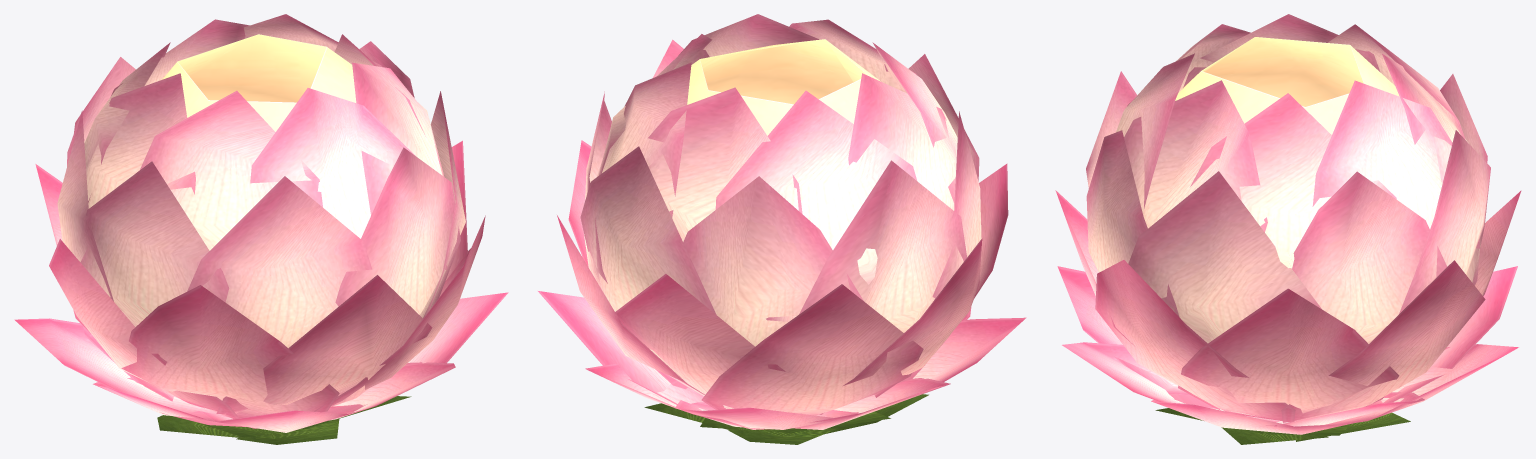
The model's file is lotus.glb.
3 views of the same model, side by side, from view 1: azimuth 30°, elevation 25°; view 2: azimuth 150°, elevation 25°; view 3: azimuth 270°, elevation 25° (orthographic).
Parts seen in each view (by area): view 1: Petals_Upper, Petals_Lower, PaperDome, Sepals; view 2: Petals_Upper, Petals_Lower, PaperDome, Sepals; view 3: Petals_Upper, Petals_Lower, PaperDome, Sepals.
Part boxes in pixels (x1,y1,x2,y2): Petals_Upper: (57, 14, 465, 348); Petals_Lower: (14, 140, 508, 432); PaperDome: (162, 34, 356, 131); Sepals: (157, 396, 411, 444); Petals_Upper: (580, 14, 981, 380); Petals_Lower: (538, 140, 1026, 429); PaperDome: (687, 39, 880, 135); Sepals: (644, 394, 928, 444); Petals_Upper: (1086, 14, 1490, 343); Petals_Lower: (1055, 190, 1521, 434); PaperDome: (1175, 37, 1399, 134); Sepals: (1155, 408, 1410, 444).
Size of the model in its own units: 0.4944 by 0.4293 by 0.4944.
4 materials, 4 textured.
